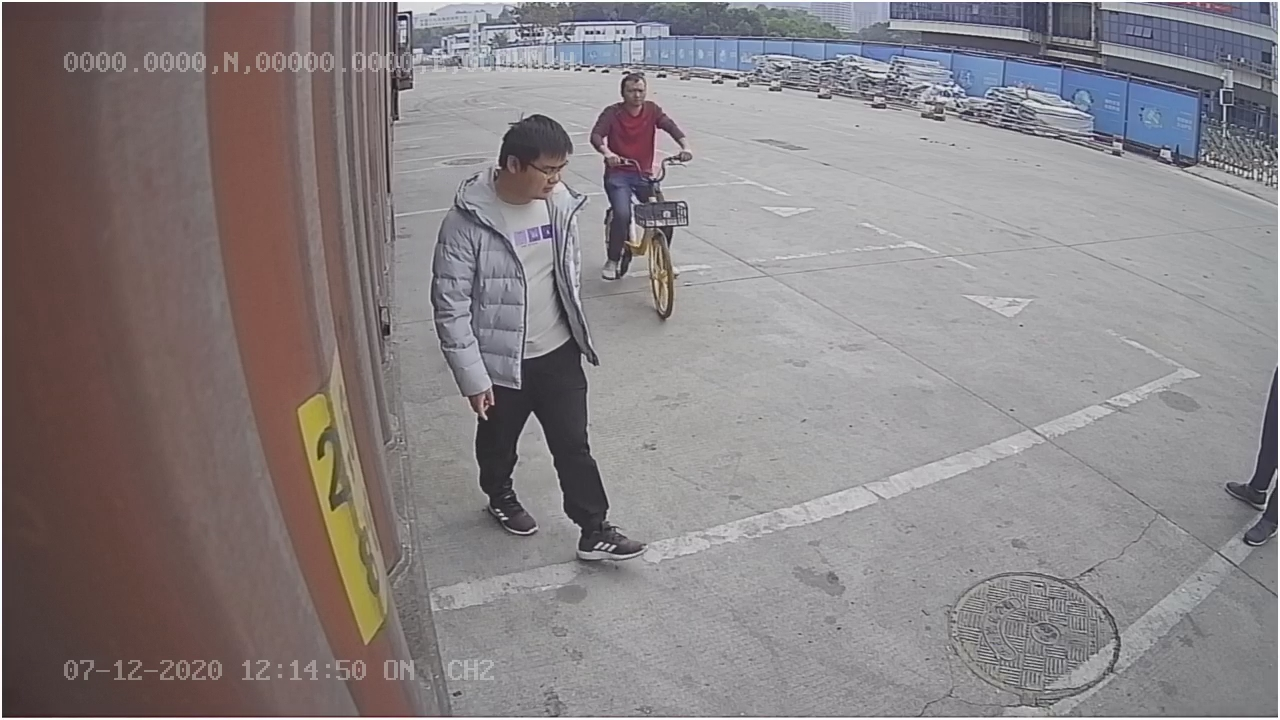person: (431, 116, 652, 565)
